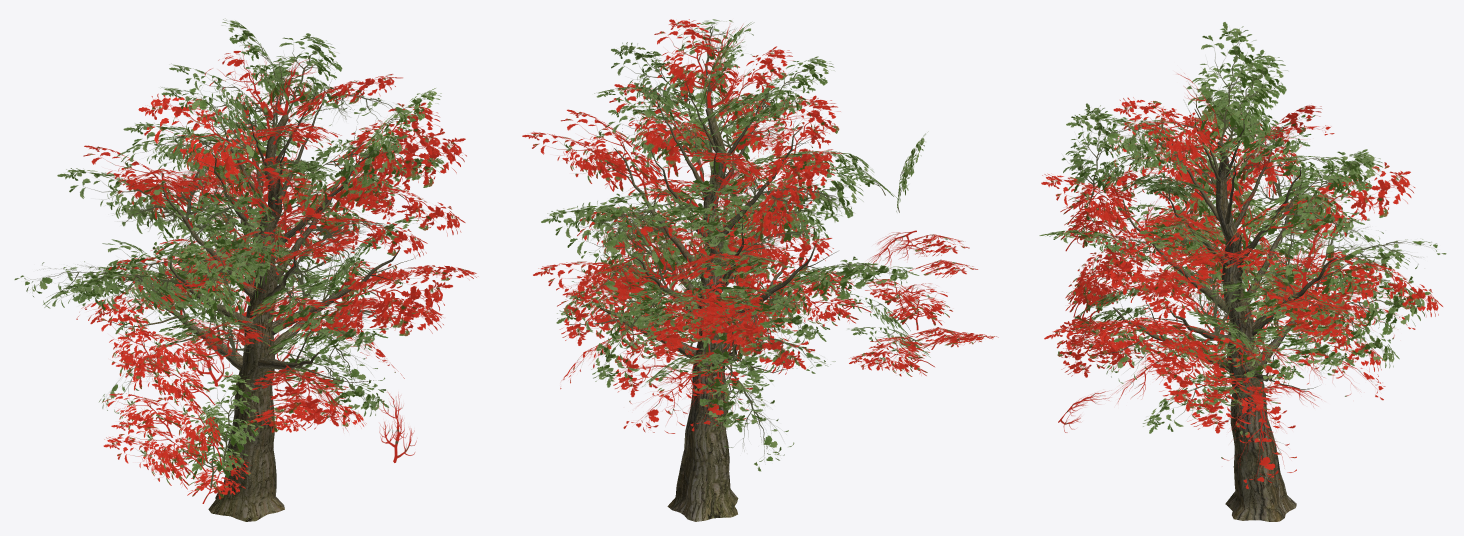
Rendered from poinciana_b.glb.
3 views of the same model, side by side, from view 1: azimuth 30°, elevation 25°; view 2: azimuth 150°, elevation 25°; view 3: azimuth 270°, elevation 25° (orthographic). The views are drawn at different scales.
Parts seen in each view (by area): view 1: leafplanes_2_196_33_w; view 2: leafplanes_2_196_33_w; view 3: leafplanes_2_196_33_w.
Boxes of the visible parts, x1,y1,x2,y2 form: leafplanes_2_196_33_w: (14, 18, 478, 521); leafplanes_2_196_33_w: (522, 19, 998, 521); leafplanes_2_196_33_w: (1039, 22, 1446, 521).
Bounding box in the file's own units: 6.92 × 8 × 6.36.
Materials: 3 (3 with a texture image).
